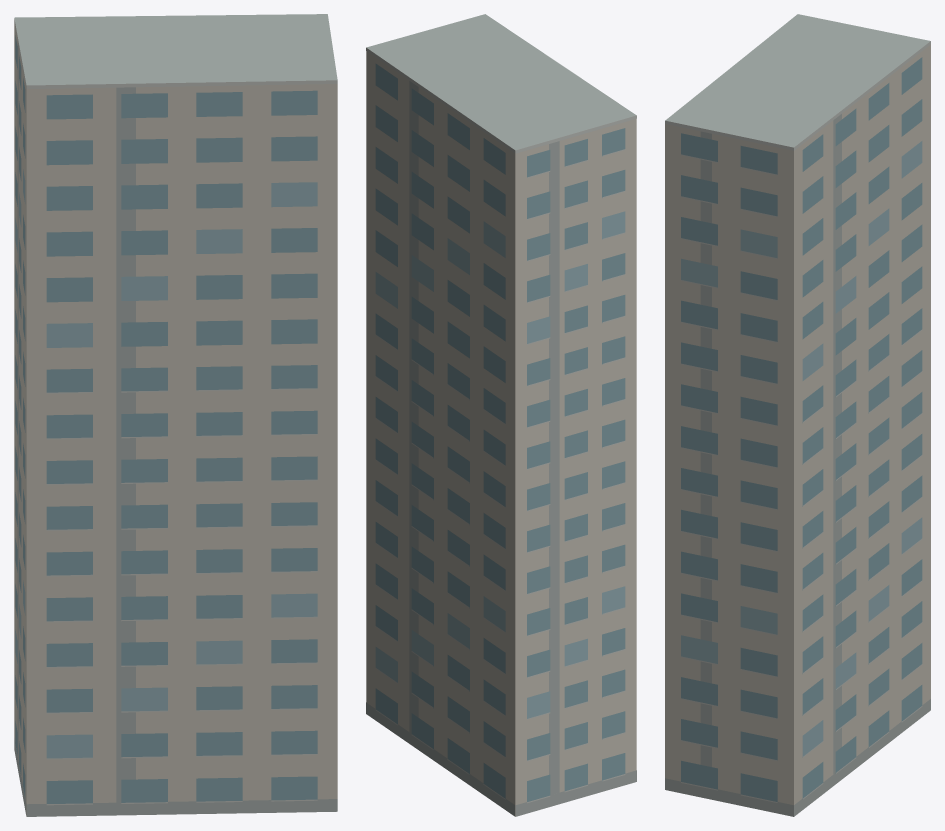
File: survey-upis-33040744.glb
3 views of the same model, side by side, from view 1: azimuth 30°, elevation 25°; view 2: azimuth 150°, elevation 25°; view 3: azimuth 270°, elevation 25° (orthographic). The views are drawn at different scales.
Parts seen in each view (by area): view 1: survey-upis-33040744.tmp; view 2: survey-upis-33040744.tmp; view 3: survey-upis-33040744.tmp.
Boxes of the visible parts, <box> form: survey-upis-33040744.tmp: <box>14,14,337,816</box>; survey-upis-33040744.tmp: <box>366,14,636,816</box>; survey-upis-33040744.tmp: <box>665,14,930,816</box>.
Size of the model in its own units: 20.9 by 48.8 by 17.57.
